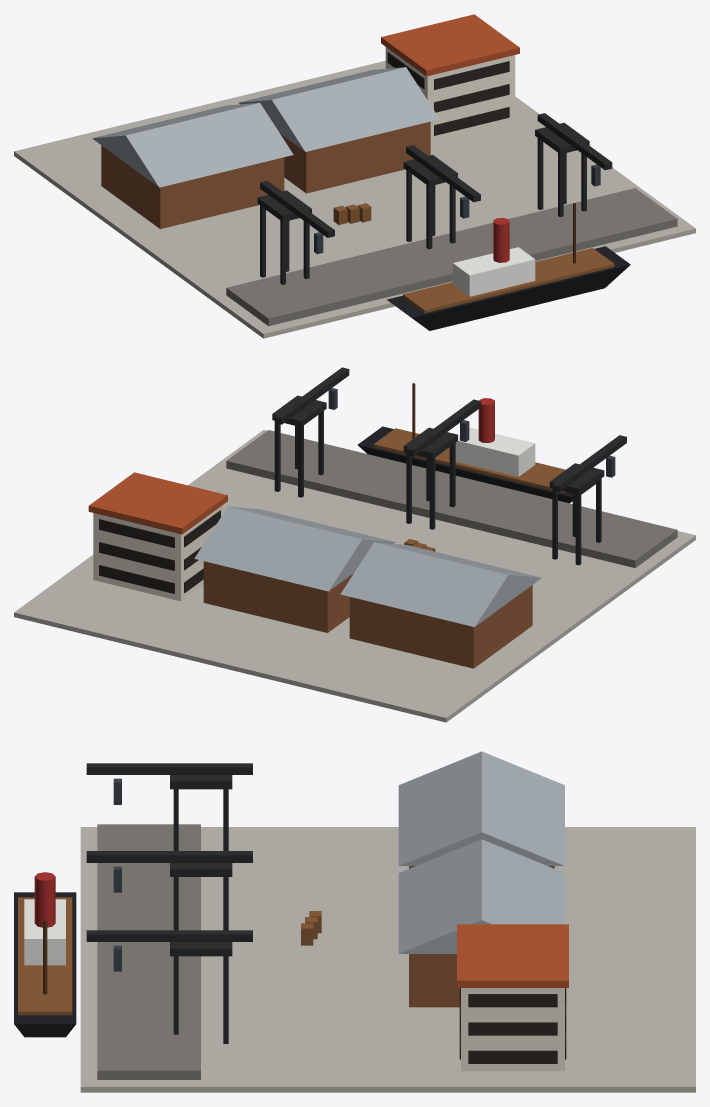
The model's file is building_pelabuhan_dagang.glb.
3 renders of one model, top to bottom at view 1: azimuth 30°, elevation 25°; view 2: azimuth 150°, elevation 25°; view 3: azimuth 270°, elevation 25°, orthographic. The views are drawn at different scales.
Visible parts, largest first — view 1: building_pelabuhan_dagang; view 2: building_pelabuhan_dagang; view 3: building_pelabuhan_dagang.
Part boxes in pixels (x1,y1,x2,y2): building_pelabuhan_dagang: (14,14,695,338); building_pelabuhan_dagang: (14,367,695,722); building_pelabuhan_dagang: (14,751,695,1092).
Bounding box in the file's own units: 2.96 × 0.65 × 3.28.
